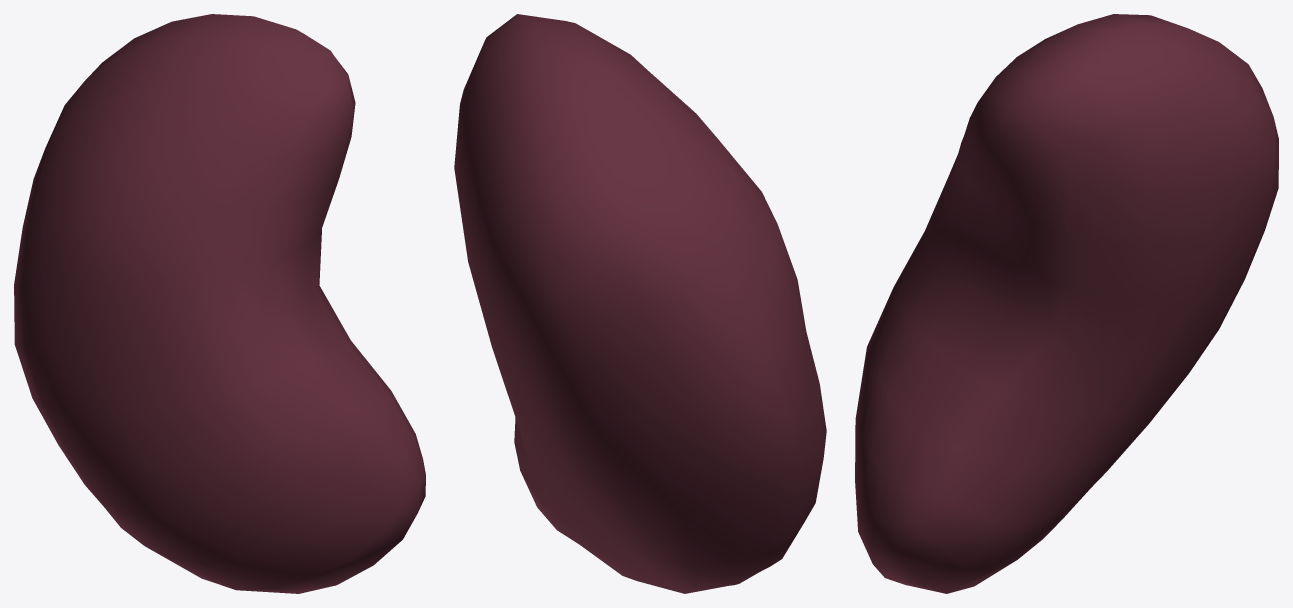
The model's file is kidney_r.glb.
3 views of the same model, side by side, from view 1: azimuth 30°, elevation 25°; view 2: azimuth 150°, elevation 25°; view 3: azimuth 270°, elevation 25° (orthographic). The views are drawn at different scales.
Parts seen in each view (by area): view 1: Kidney_R; view 2: Kidney_R; view 3: Kidney_R.
Part boxes in pixels (x1=…): Kidney_R: x1=14, y1=14, x2=425, y2=593; Kidney_R: x1=454, y1=14, x2=826, y2=593; Kidney_R: x1=855, y1=14, x2=1278, y2=593.
Bounding box in the file's own units: 6.37e-09 × 1e-08 × 6.77e-09.
